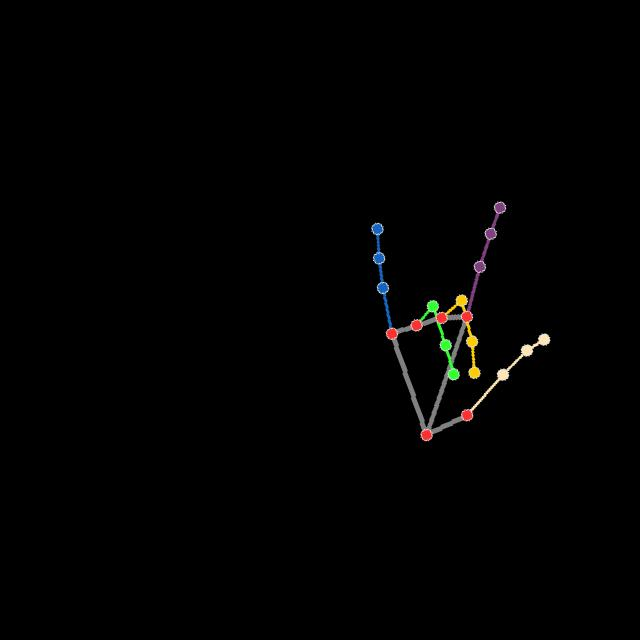spiderman: (367, 198, 555, 445)
